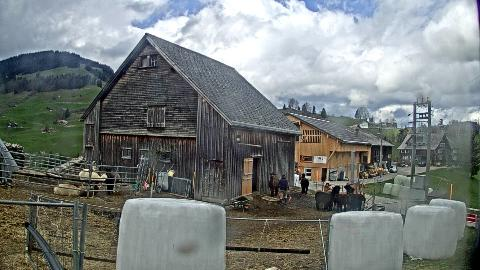car: (388, 166, 398, 172), (418, 162, 426, 166)
sheep: (314, 186, 338, 212), (344, 184, 362, 212), (80, 166, 100, 190), (68, 182, 102, 195), (348, 187, 366, 211), (334, 186, 350, 212), (54, 184, 88, 196), (104, 172, 120, 196), (268, 172, 280, 196), (316, 186, 330, 204), (300, 173, 310, 195)
